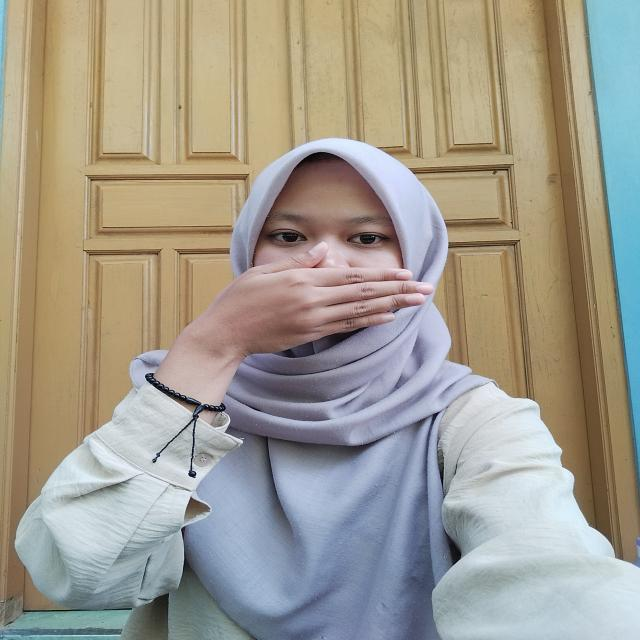buruk: (166, 245, 436, 388)
